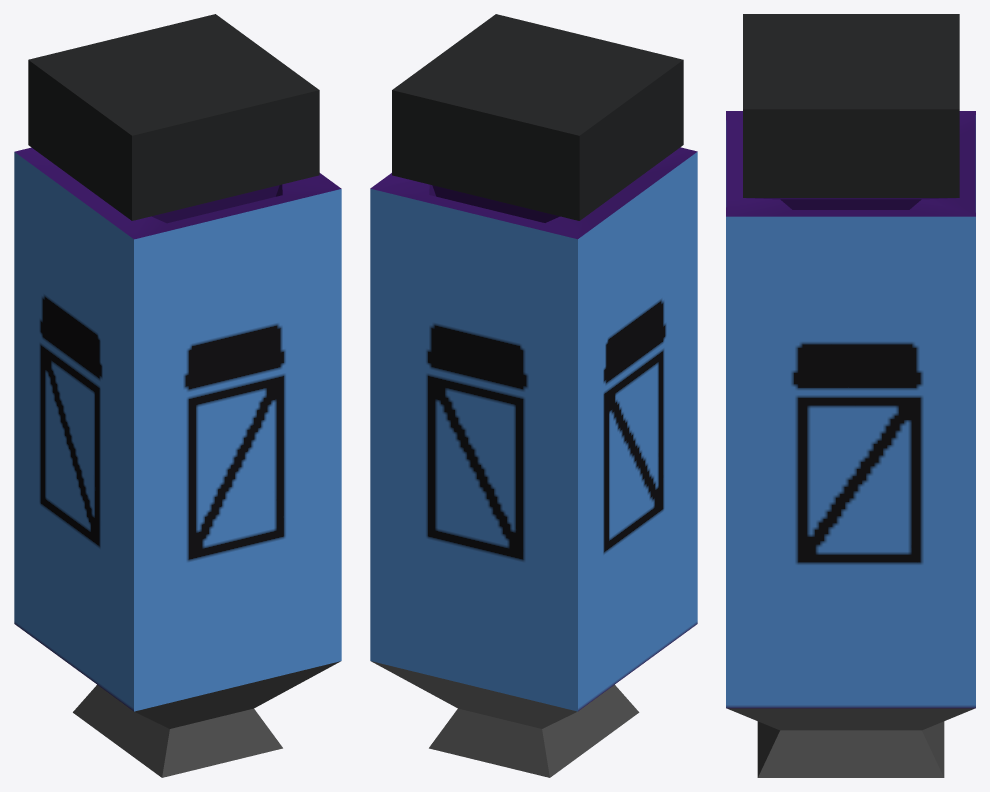
File: bin.fbx
The picture shows the model from 3 angles, left to right: view 1: azimuth 30°, elevation 25°; view 2: azimuth 150°, elevation 25°; view 3: azimuth 270°, elevation 25°; orthographic projection. The views are drawn at different scales.
Parts seen in each view (by area): view 1: bin; view 2: bin; view 3: bin.
Part boxes in pixels (left/top/right/bottom): bin: left=14, top=14, right=341, bottom=777; bin: left=370, top=14, right=697, bottom=777; bin: left=726, top=14, right=975, bottom=777.
Size of the model in its own units: 43.93 by 133 by 43.93.
